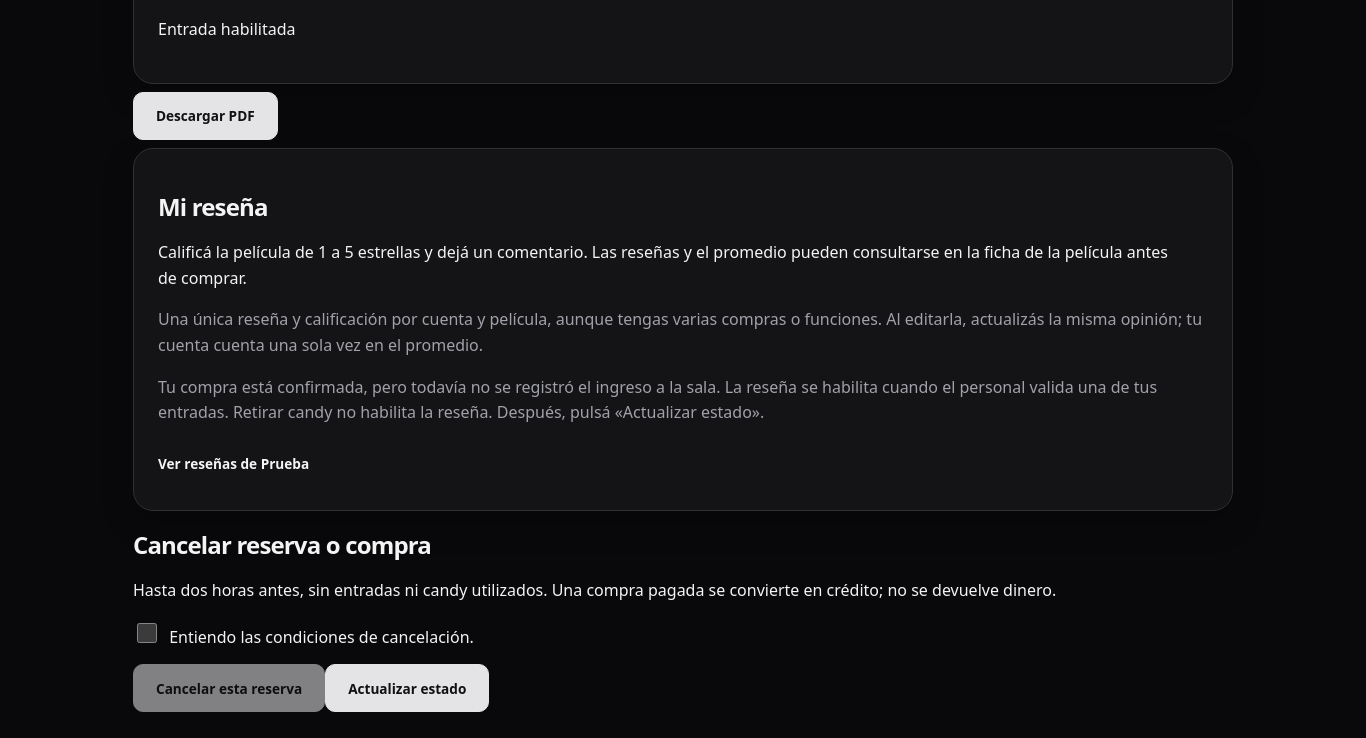
Mi reseña visible y pago simulado coherente › actualizar después del ingreso habilita estrellas y comentario
(page scrolled)
Expected: the heading "Mi reseña" is shown, [158,190,268,223]
Click the button "Actualizar estado": (407, 688) [325,664,489,712]
(page scrolled)
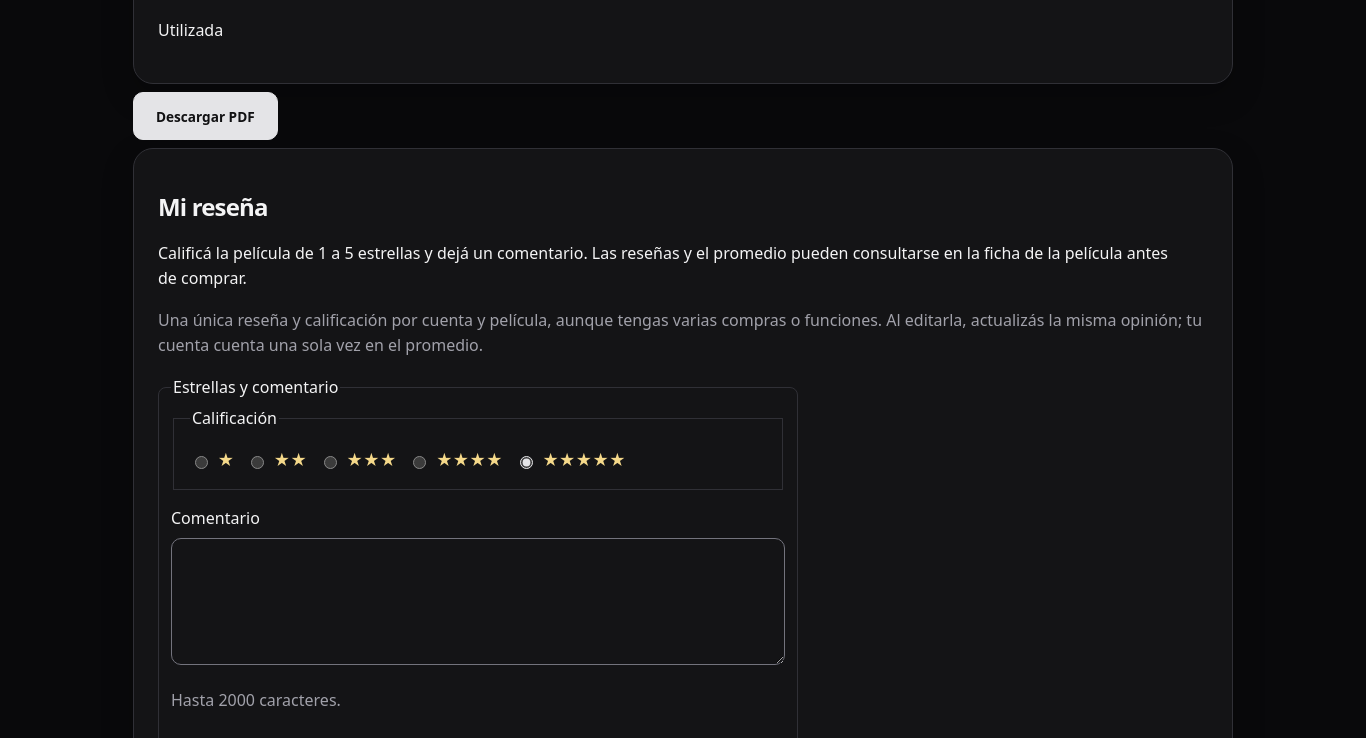
Now the number of radio buttons is 5, box [195,456,208,469]; [251,456,264,469]; [324,456,337,469]; [414,456,426,469]; [520,456,533,469]
Now the text box labelled "Comentario" is shown, box [171,538,785,665]
